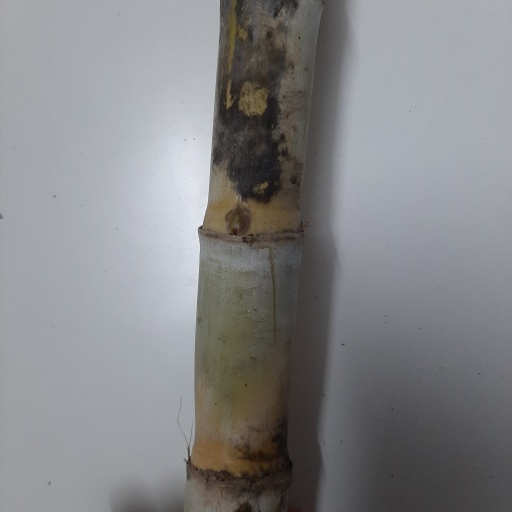Bud: (227, 208, 249, 237)
